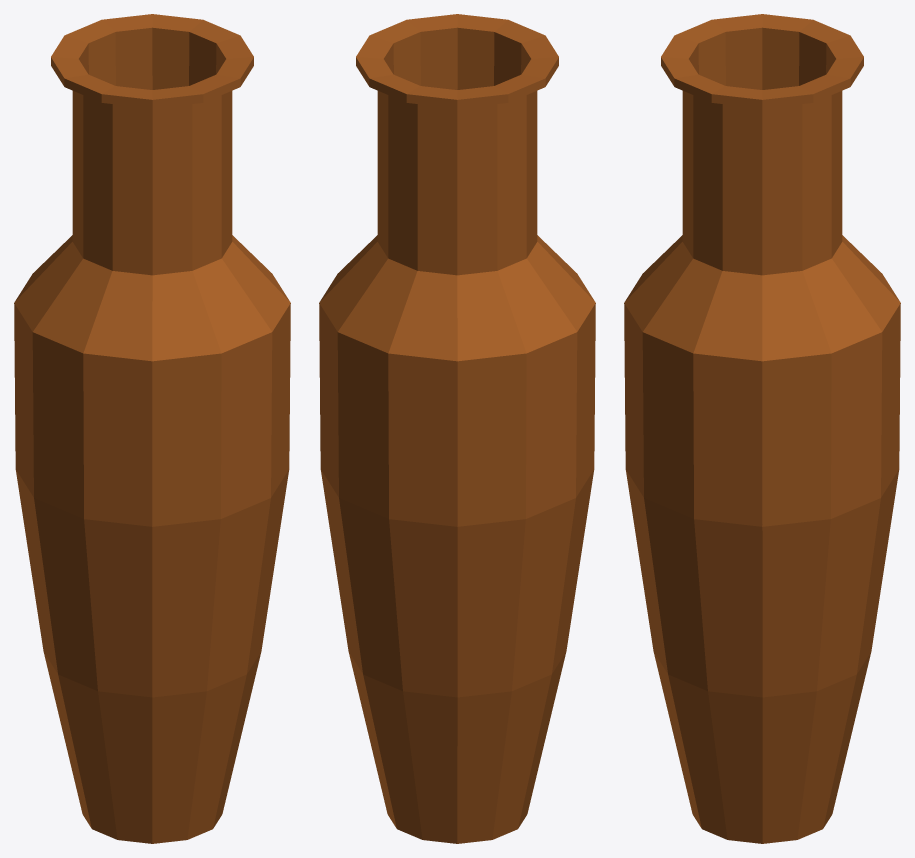
File: SM_pottery_014.FBX
3 renders of one model, left to right at view 1: azimuth 30°, elevation 25°; view 2: azimuth 150°, elevation 25°; view 3: azimuth 270°, elevation 25°, orthographic.
Visible parts, largest first — view 1: Object098; view 2: Object098; view 3: Object098.
Boxes of the visible parts, bbox=[...] form: Object098: bbox=[14, 14, 290, 843]; Object098: bbox=[319, 14, 595, 843]; Object098: bbox=[624, 14, 900, 843].
Bounding box in the file's own units: 31.78 × 96 × 31.78.
